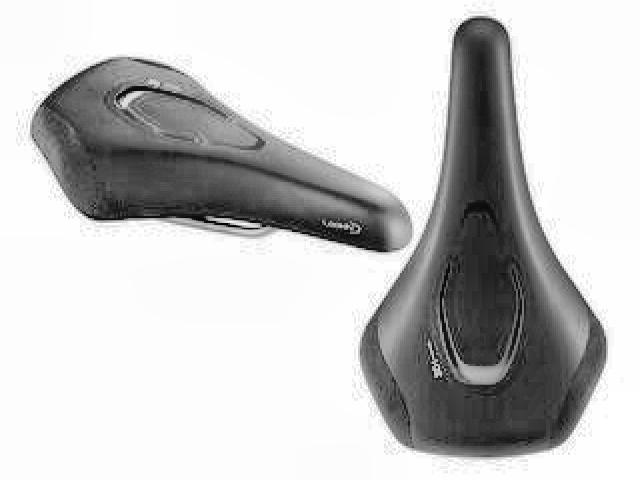saddle: (352, 16, 608, 465), (31, 50, 416, 252)
